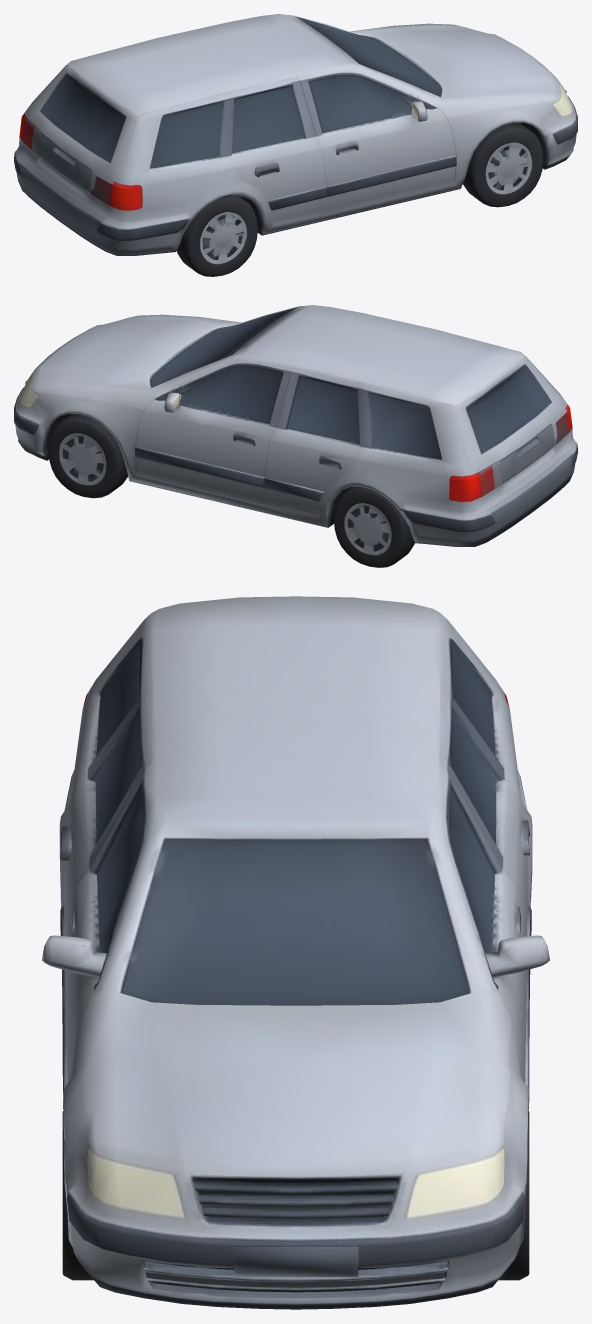
File: streifenwagen_stil.glb
3 views of the same model, one above another, from view 1: azimuth 30°, elevation 25°; view 2: azimuth 150°, elevation 25°; view 3: azimuth 270°, elevation 25° (orthographic). The views are drawn at different scales.
Visible parts, largest first — view 1: tripo_node_ca49da5c-c510-4a63-909a-129eae5241b7; view 2: tripo_node_ca49da5c-c510-4a63-909a-129eae5241b7; view 3: tripo_node_ca49da5c-c510-4a63-909a-129eae5241b7.
Boxes of the visible parts, box(x1,y1,x2,y2) form: tripo_node_ca49da5c-c510-4a63-909a-129eae5241b7: box(14, 14, 577, 276); tripo_node_ca49da5c-c510-4a63-909a-129eae5241b7: box(14, 305, 577, 567); tripo_node_ca49da5c-c510-4a63-909a-129eae5241b7: box(42, 596, 549, 1309).
Size of the model in its own units: 0.9995 by 0.3228 by 0.4448.
Materials: 1 (1 with a texture image).
